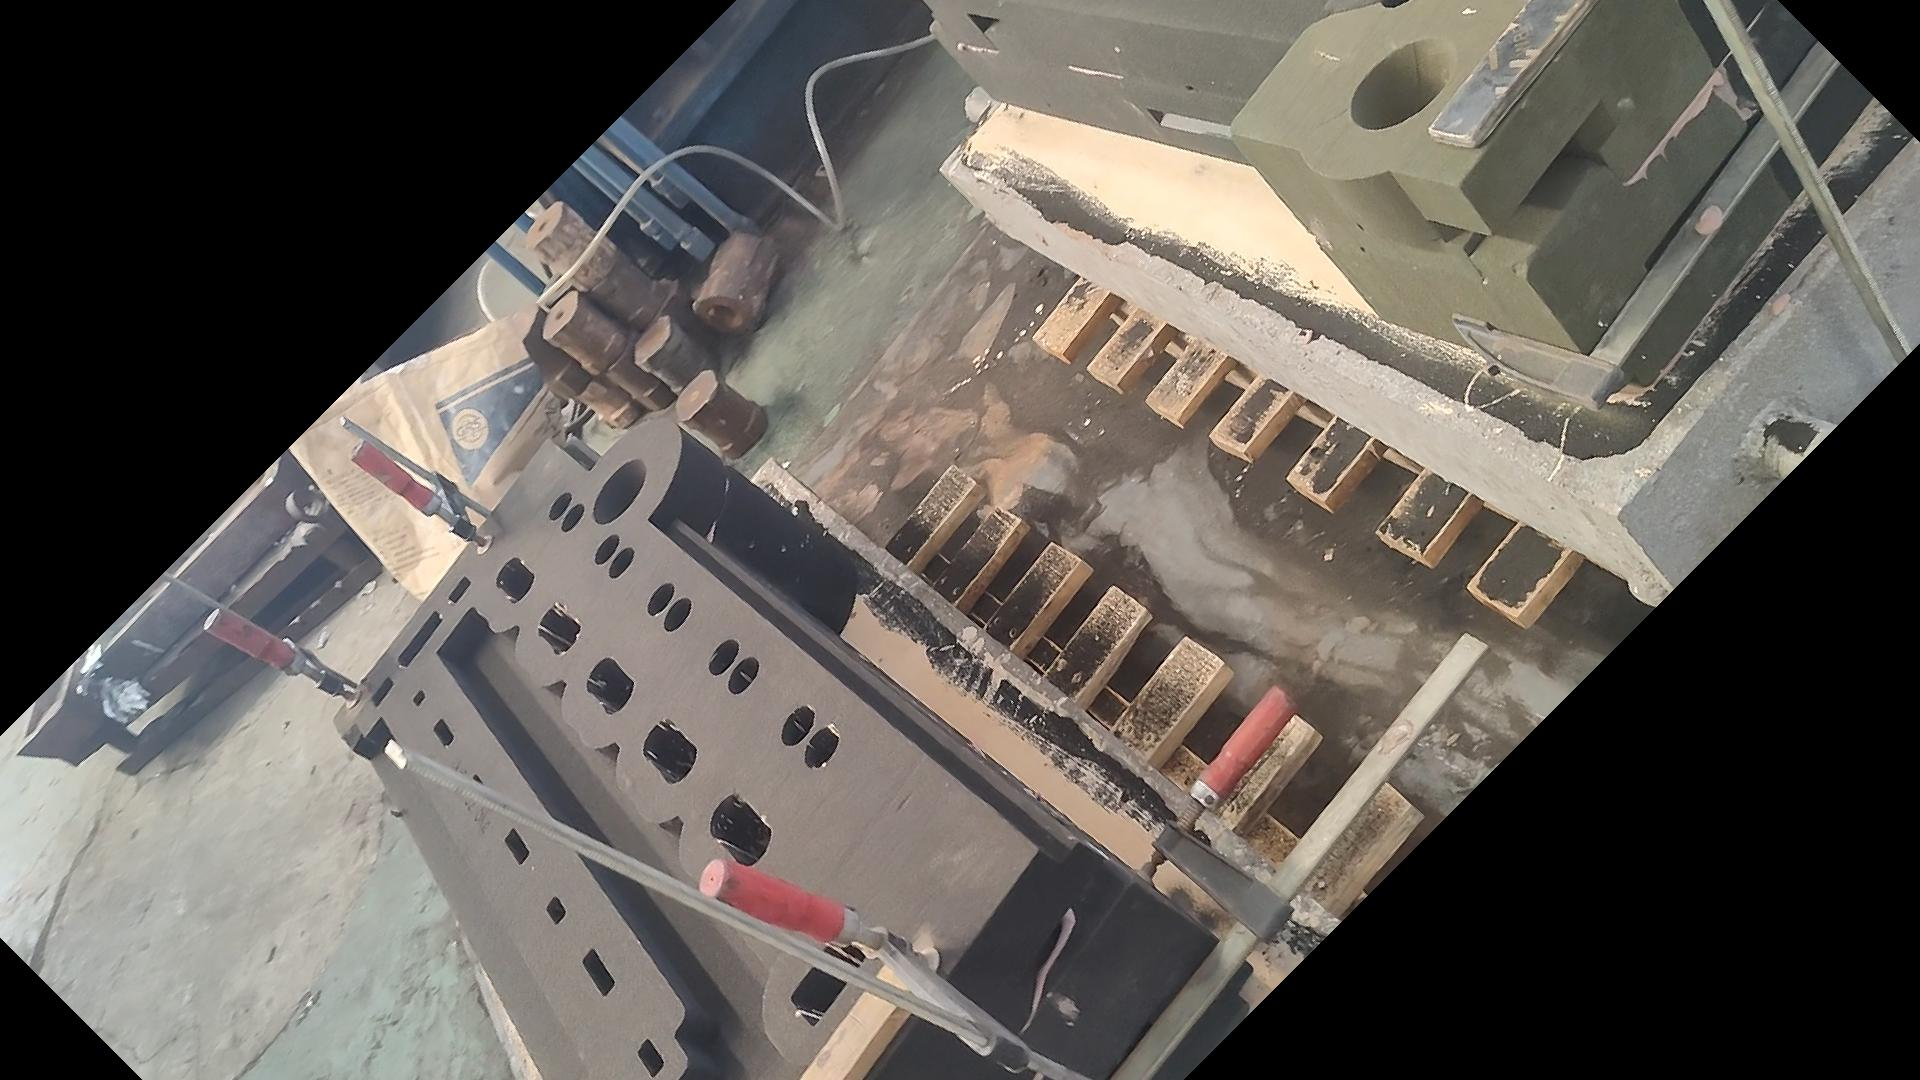pouring hole: (1346, 34, 1453, 131), (589, 455, 651, 526)
